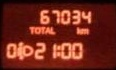0: (71, 40, 84, 60), (5, 41, 16, 60), (61, 41, 70, 60), (60, 8, 70, 25)
1: (50, 41, 56, 59)
2: (34, 40, 44, 60)
3: (71, 8, 80, 24)
4: (81, 9, 90, 23)
6: (38, 8, 50, 24)
7: (51, 8, 59, 24)
X: (56, 43, 60, 58), (81, 27, 89, 34), (28, 25, 34, 34), (50, 26, 56, 34), (76, 26, 81, 35), (35, 25, 40, 34), (45, 26, 50, 34), (40, 25, 44, 34)
